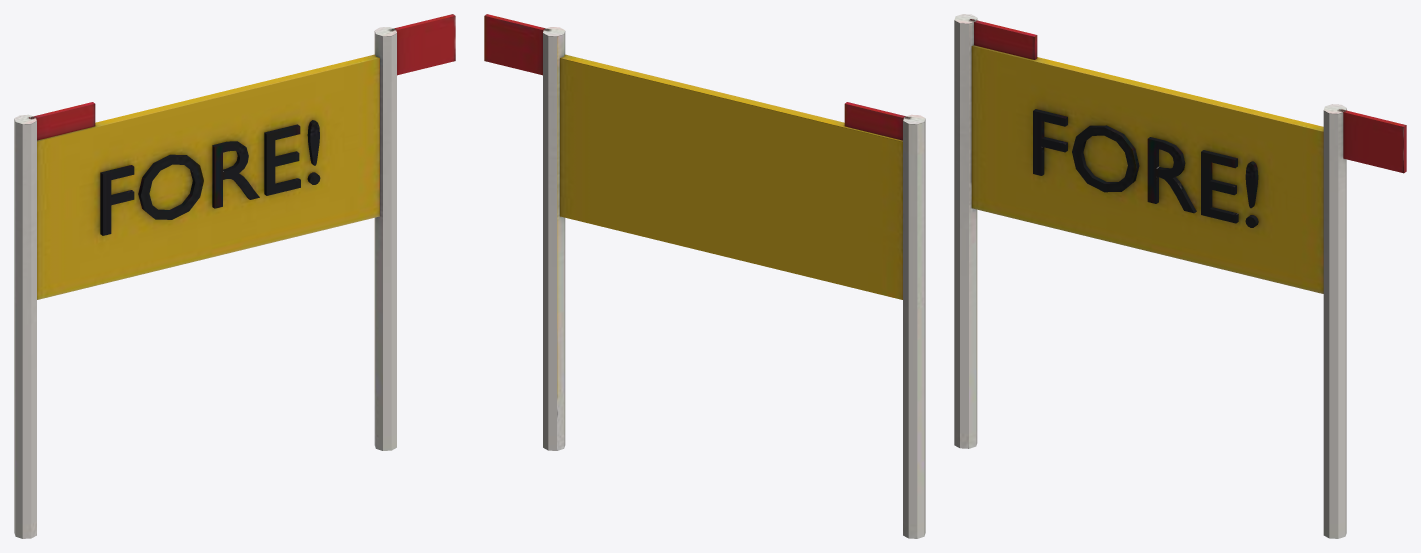
The model's file is cartel_fore.glb.
3 views of the same model, side by side, from view 1: azimuth 30°, elevation 25°; view 2: azimuth 150°, elevation 25°; view 3: azimuth 330°, elevation 25° (orthographic). The views are drawn at different scales.
Visible parts, largest first — view 1: cartel_fore; view 2: cartel_fore; view 3: cartel_fore.
Boxes of the visible parts, <box> form: cartel_fore: <box>14,14,455,538</box>; cartel_fore: <box>484,14,925,538</box>; cartel_fore: <box>954,14,1406,538</box>.
Size of the model in its own units: 3.04 by 2.75 by 0.14.
1 material, 1 textured.
